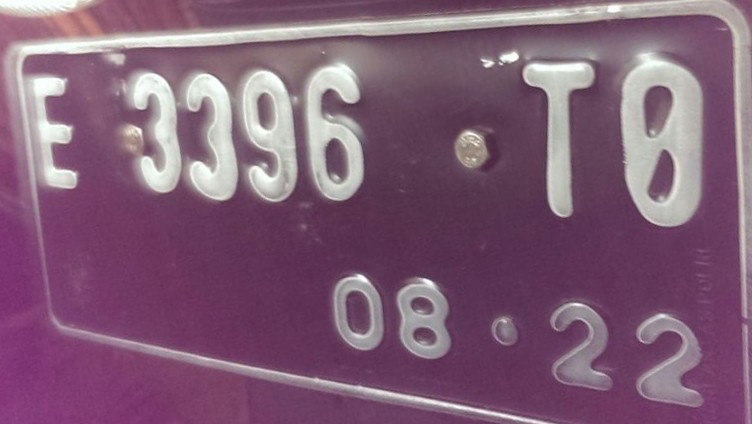plate: (15, 3, 748, 424)
